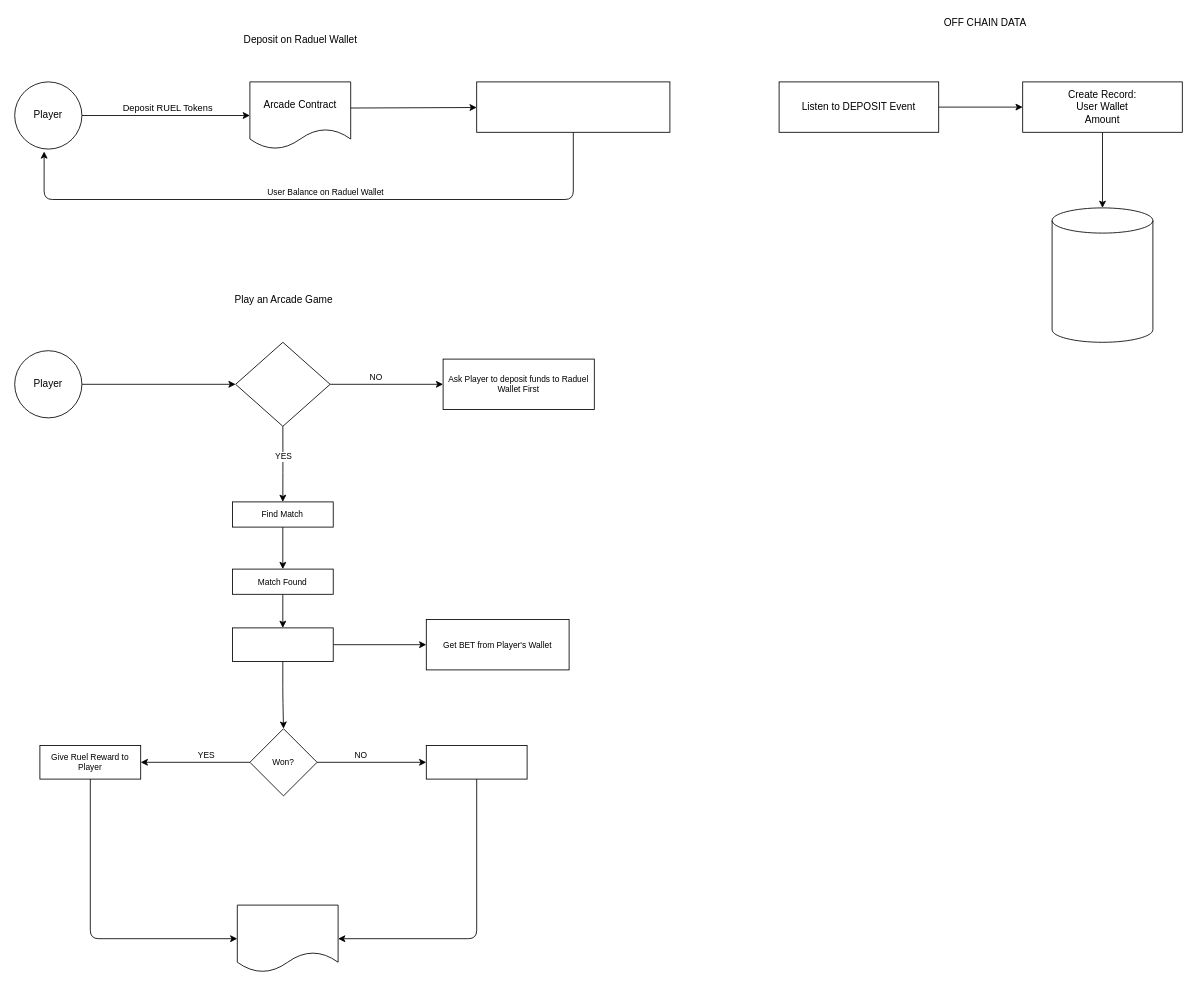
This 1197x987 diagram has some shape labels left out. The shapes that lost their labels are listed below. From the top down, each one's centre as x and y in pixels, then its label:
(573,106): EMIT EVENT: DEPOSIT - Amount - Player Wallet Address
(1102,274): OFF CHAIN DATABASE
(282,383): Raduel Wallet has funds?
(282,644): Play Game
(476,762): Give Ruel Reward to Enemy
(287,938): Raduel Wallet
